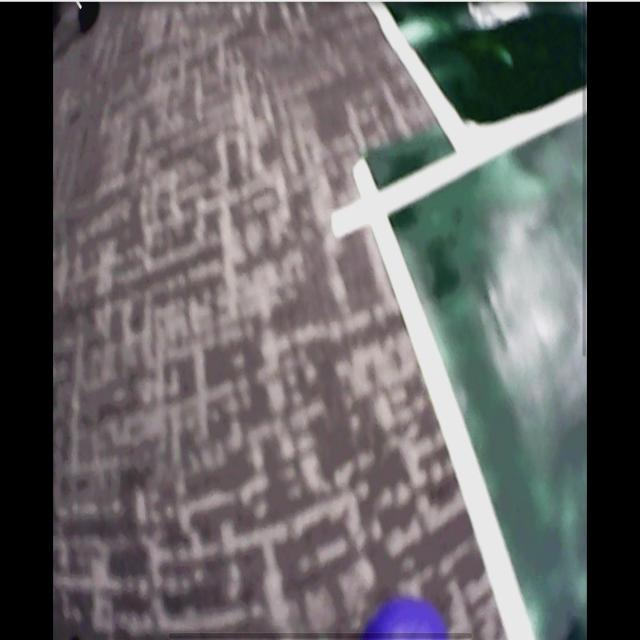ball: (368, 601, 449, 640)
